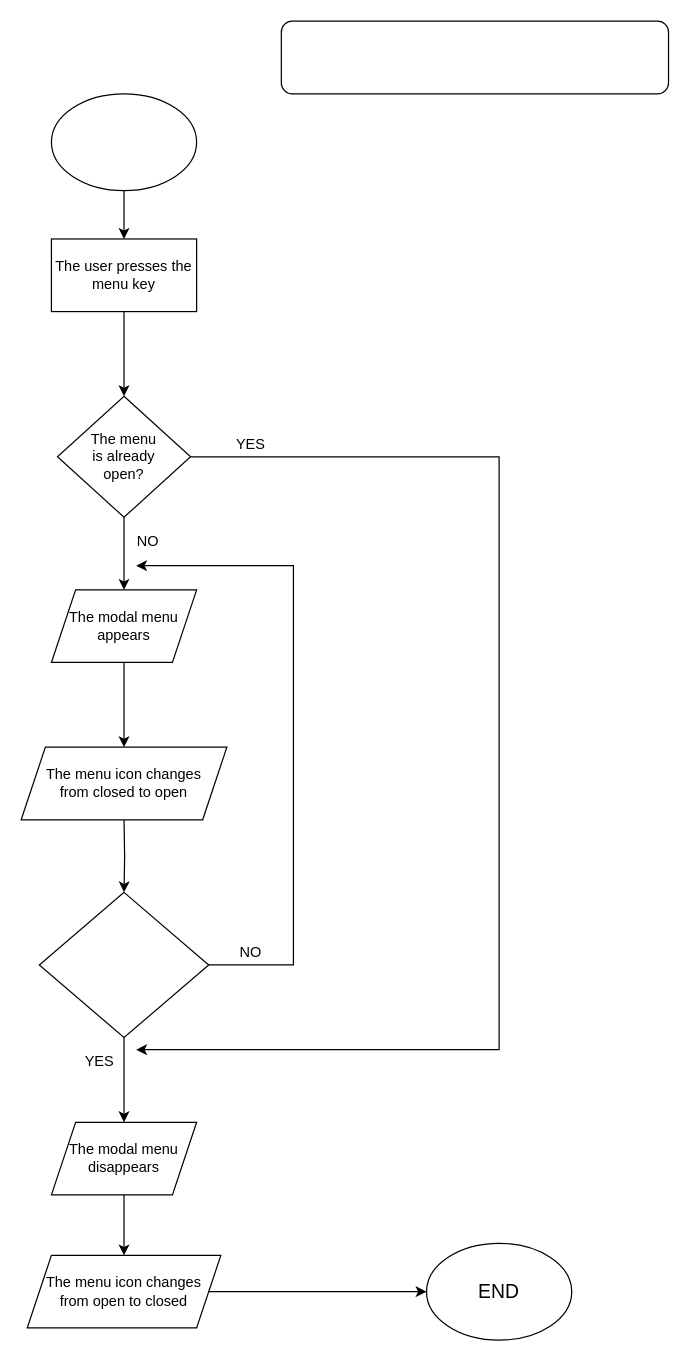
Some shapes in this 690 by 1361 pixel diagram are drawn without their labels. The shapes that lost their labels are listed below. From the top down, each one's box as (x1, y1, x2, y2) in pixels, then its label:
(280, 20, 669, 94): Responsve menu
(50, 93, 197, 191): START
(38, 891, 209, 1038): Has the open menu icon been pressed?
